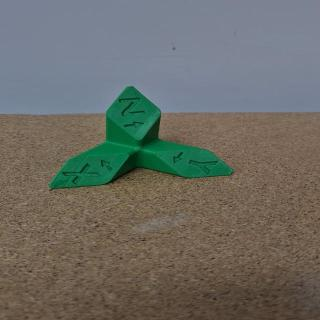eje: (44, 81, 238, 192)
